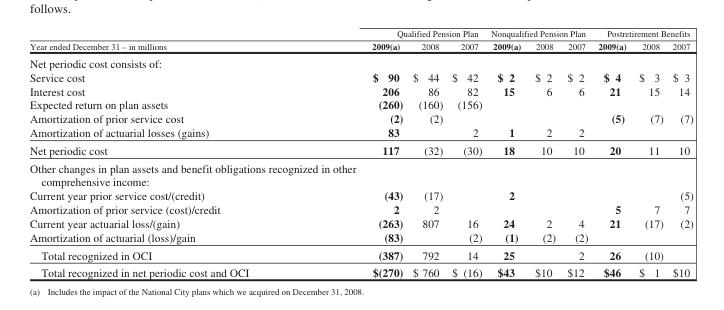table: (29, 28, 692, 278)
table column: (29, 28, 309, 278), (309, 28, 407, 278), (485, 28, 527, 278), (407, 28, 446, 278), (446, 28, 485, 278), (592, 28, 631, 278), (631, 28, 667, 278), (527, 28, 560, 278), (560, 28, 592, 278), (667, 28, 692, 278)
table column header: (29, 28, 692, 53)
table projected row header: (29, 158, 692, 188), (29, 53, 692, 69)
table row: (29, 158, 692, 188), (29, 245, 692, 263), (29, 141, 692, 158), (29, 53, 692, 69), (29, 125, 692, 141), (29, 230, 692, 245), (29, 263, 692, 278), (29, 39, 692, 53), (29, 69, 692, 83), (29, 83, 692, 97), (29, 97, 692, 111), (29, 111, 692, 125), (29, 188, 692, 202), (29, 202, 692, 216), (29, 216, 692, 230), (29, 28, 692, 39)
table spanning cell: (29, 28, 309, 53), (309, 28, 485, 39), (485, 28, 592, 39), (592, 28, 692, 39)
